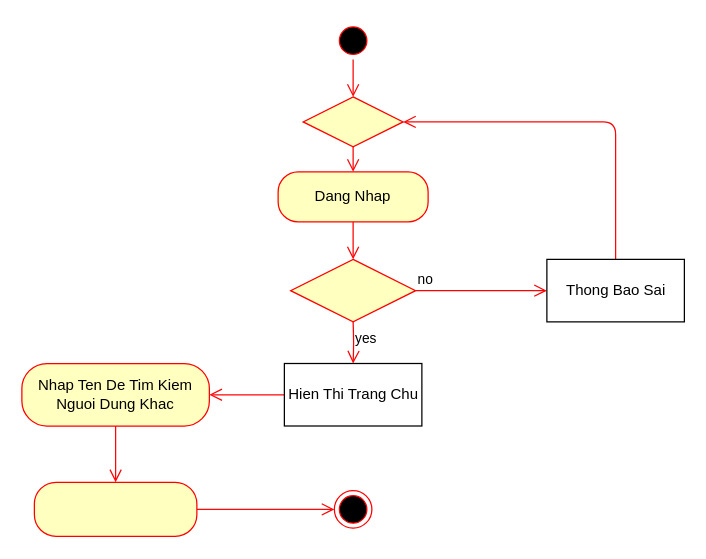
This 706x559 diagram has some shape labels left out. The shapes that lost their labels are listed below. From the top down, each one's centre as x and y in pixels, then its label:
At (352,290): "Kiem Tra TK".
At (115,508): "Gui Yeu Cau Ket Ban Den Nguoi Dung Khac".
